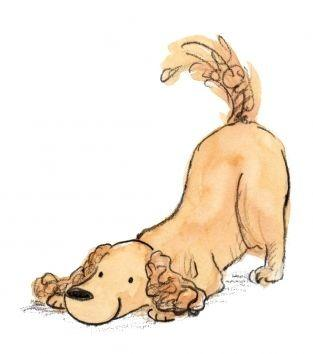adult_dog: (23, 26, 296, 331)
